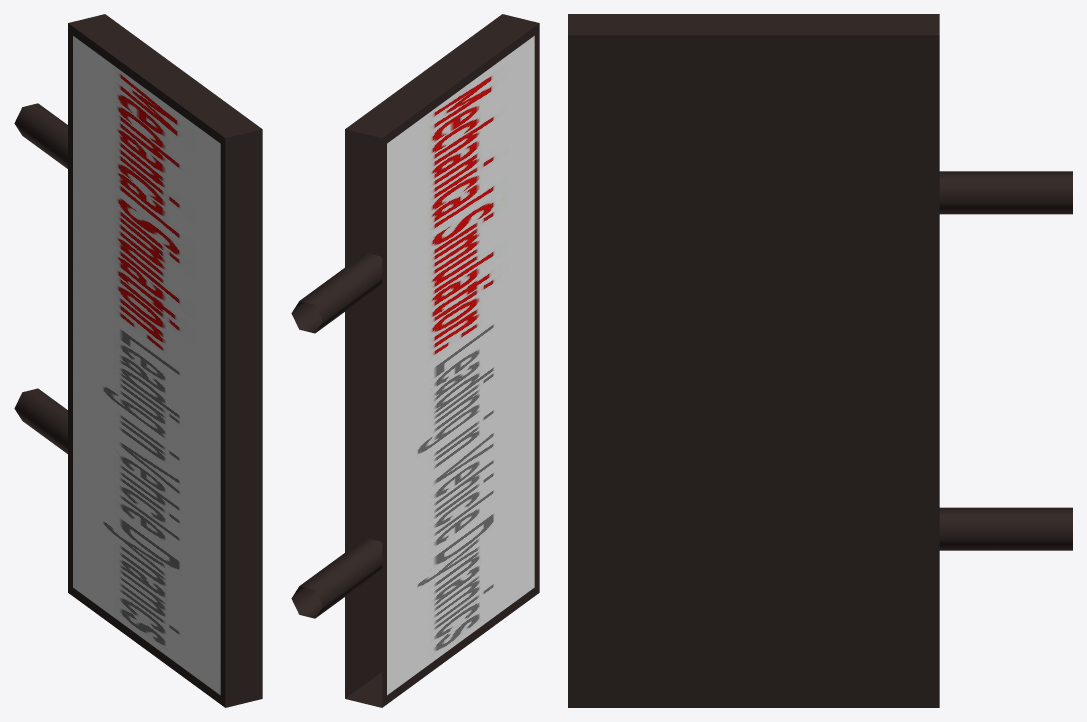
Rendered from billboard.obj.
3 views of the same model, side by side, from view 1: azimuth 30°, elevation 25°; view 2: azimuth 150°, elevation 25°; view 3: azimuth 270°, elevation 25° (orthographic). The views are drawn at different scales.
Parts seen in each view (by area): view 1: Material__35, Wood_Ashen; view 2: Material__35, Wood_Ashen; view 3: Material__35, Wood_Ashen.
Part boxes in pixels (<box>): Material__35: <box>68,14,262,707</box>; Wood_Ashen: <box>14,103,67,453</box>; Material__35: <box>345,14,539,707</box>; Wood_Ashen: <box>291,252,382,618</box>; Material__35: <box>568,14,939,707</box>; Wood_Ashen: <box>939,171,1072,550</box>.
Size of the model in its own units: 0.2044 by 3 by 2.04.
Materials: 2 (1 with a texture image).
